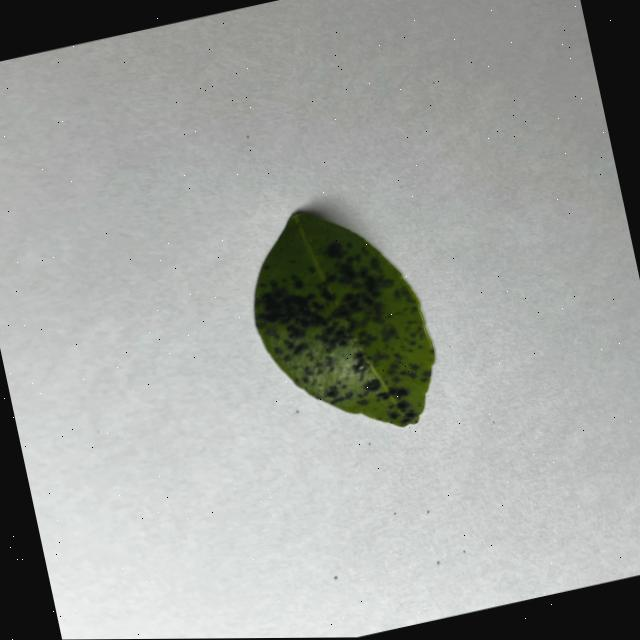sooty_mold: (253, 212, 433, 427)
